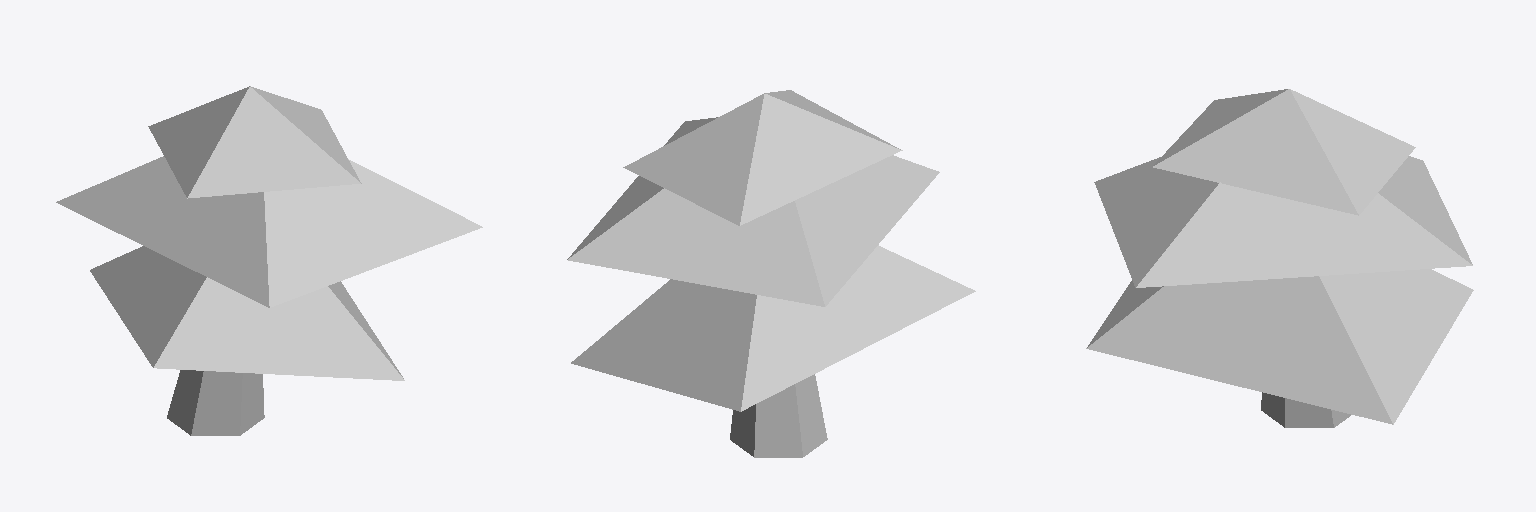
Rendered from tree04.obj.
3 views of the same model, side by side, from view 1: azimuth 30°, elevation 25°; view 2: azimuth 150°, elevation 25°; view 3: azimuth 270°, elevation 25° (orthographic).
Visible parts, largest first — view 1: Converted_object_1; view 2: Converted_object_1; view 3: Converted_object_1.
Boxes of the visible parts, x1=… form: Converted_object_1: x1=56, y1=86, x2=482, y2=435; Converted_object_1: x1=567, y1=90, x2=975, y2=457; Converted_object_1: x1=1086, y1=89, x2=1473, y2=427.
Size of the model in its own units: 4.39 by 4.49 by 4.73.